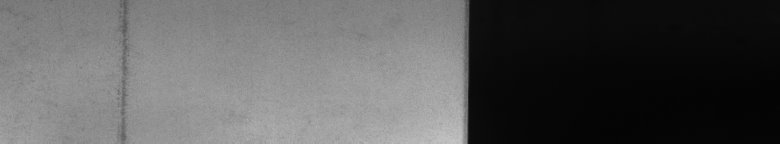hd: (112, 4, 132, 136)
